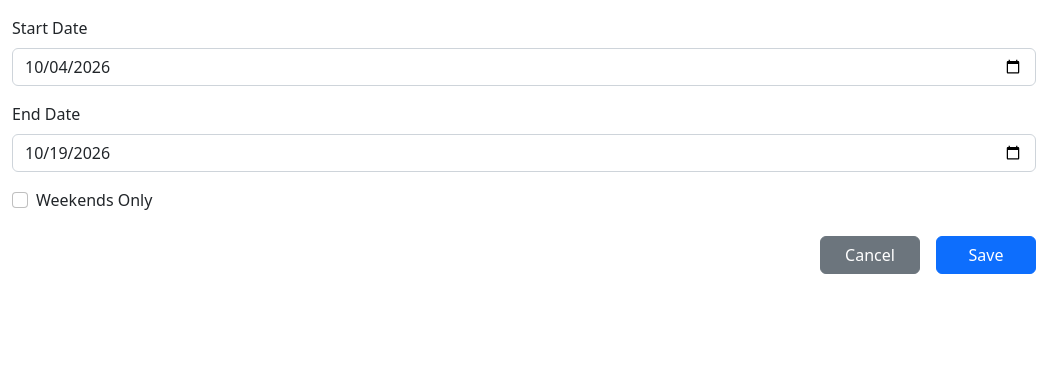
SeasonForm Component Tests › should show validation error when end date is before start date
Type "2026-10-01" into the date field labelled "End Date". click: (524, 153)
box: [12,134,1036,172]
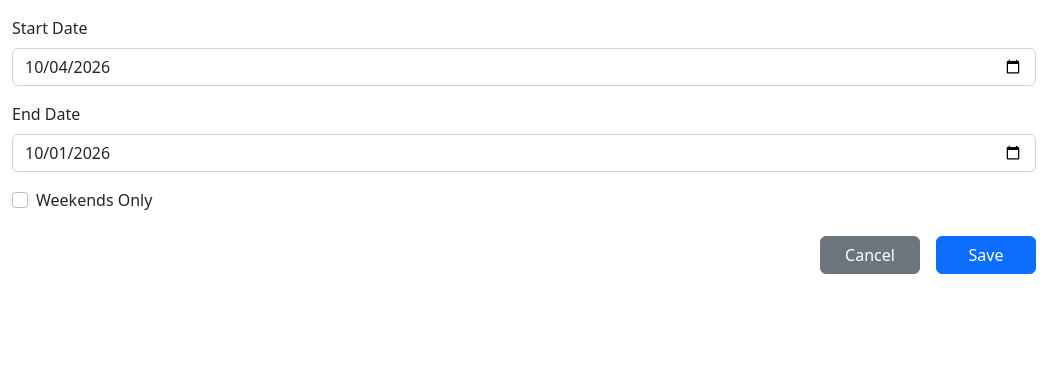
Click the button "Save". click: (986, 255)
box: [936,236,1036,274]
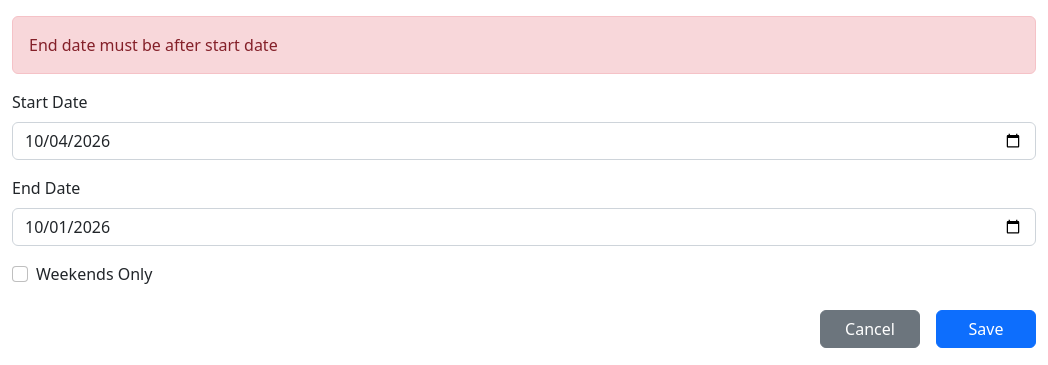
Expected: the text "End date must be after start date" is shown, [12,16,1036,74]
